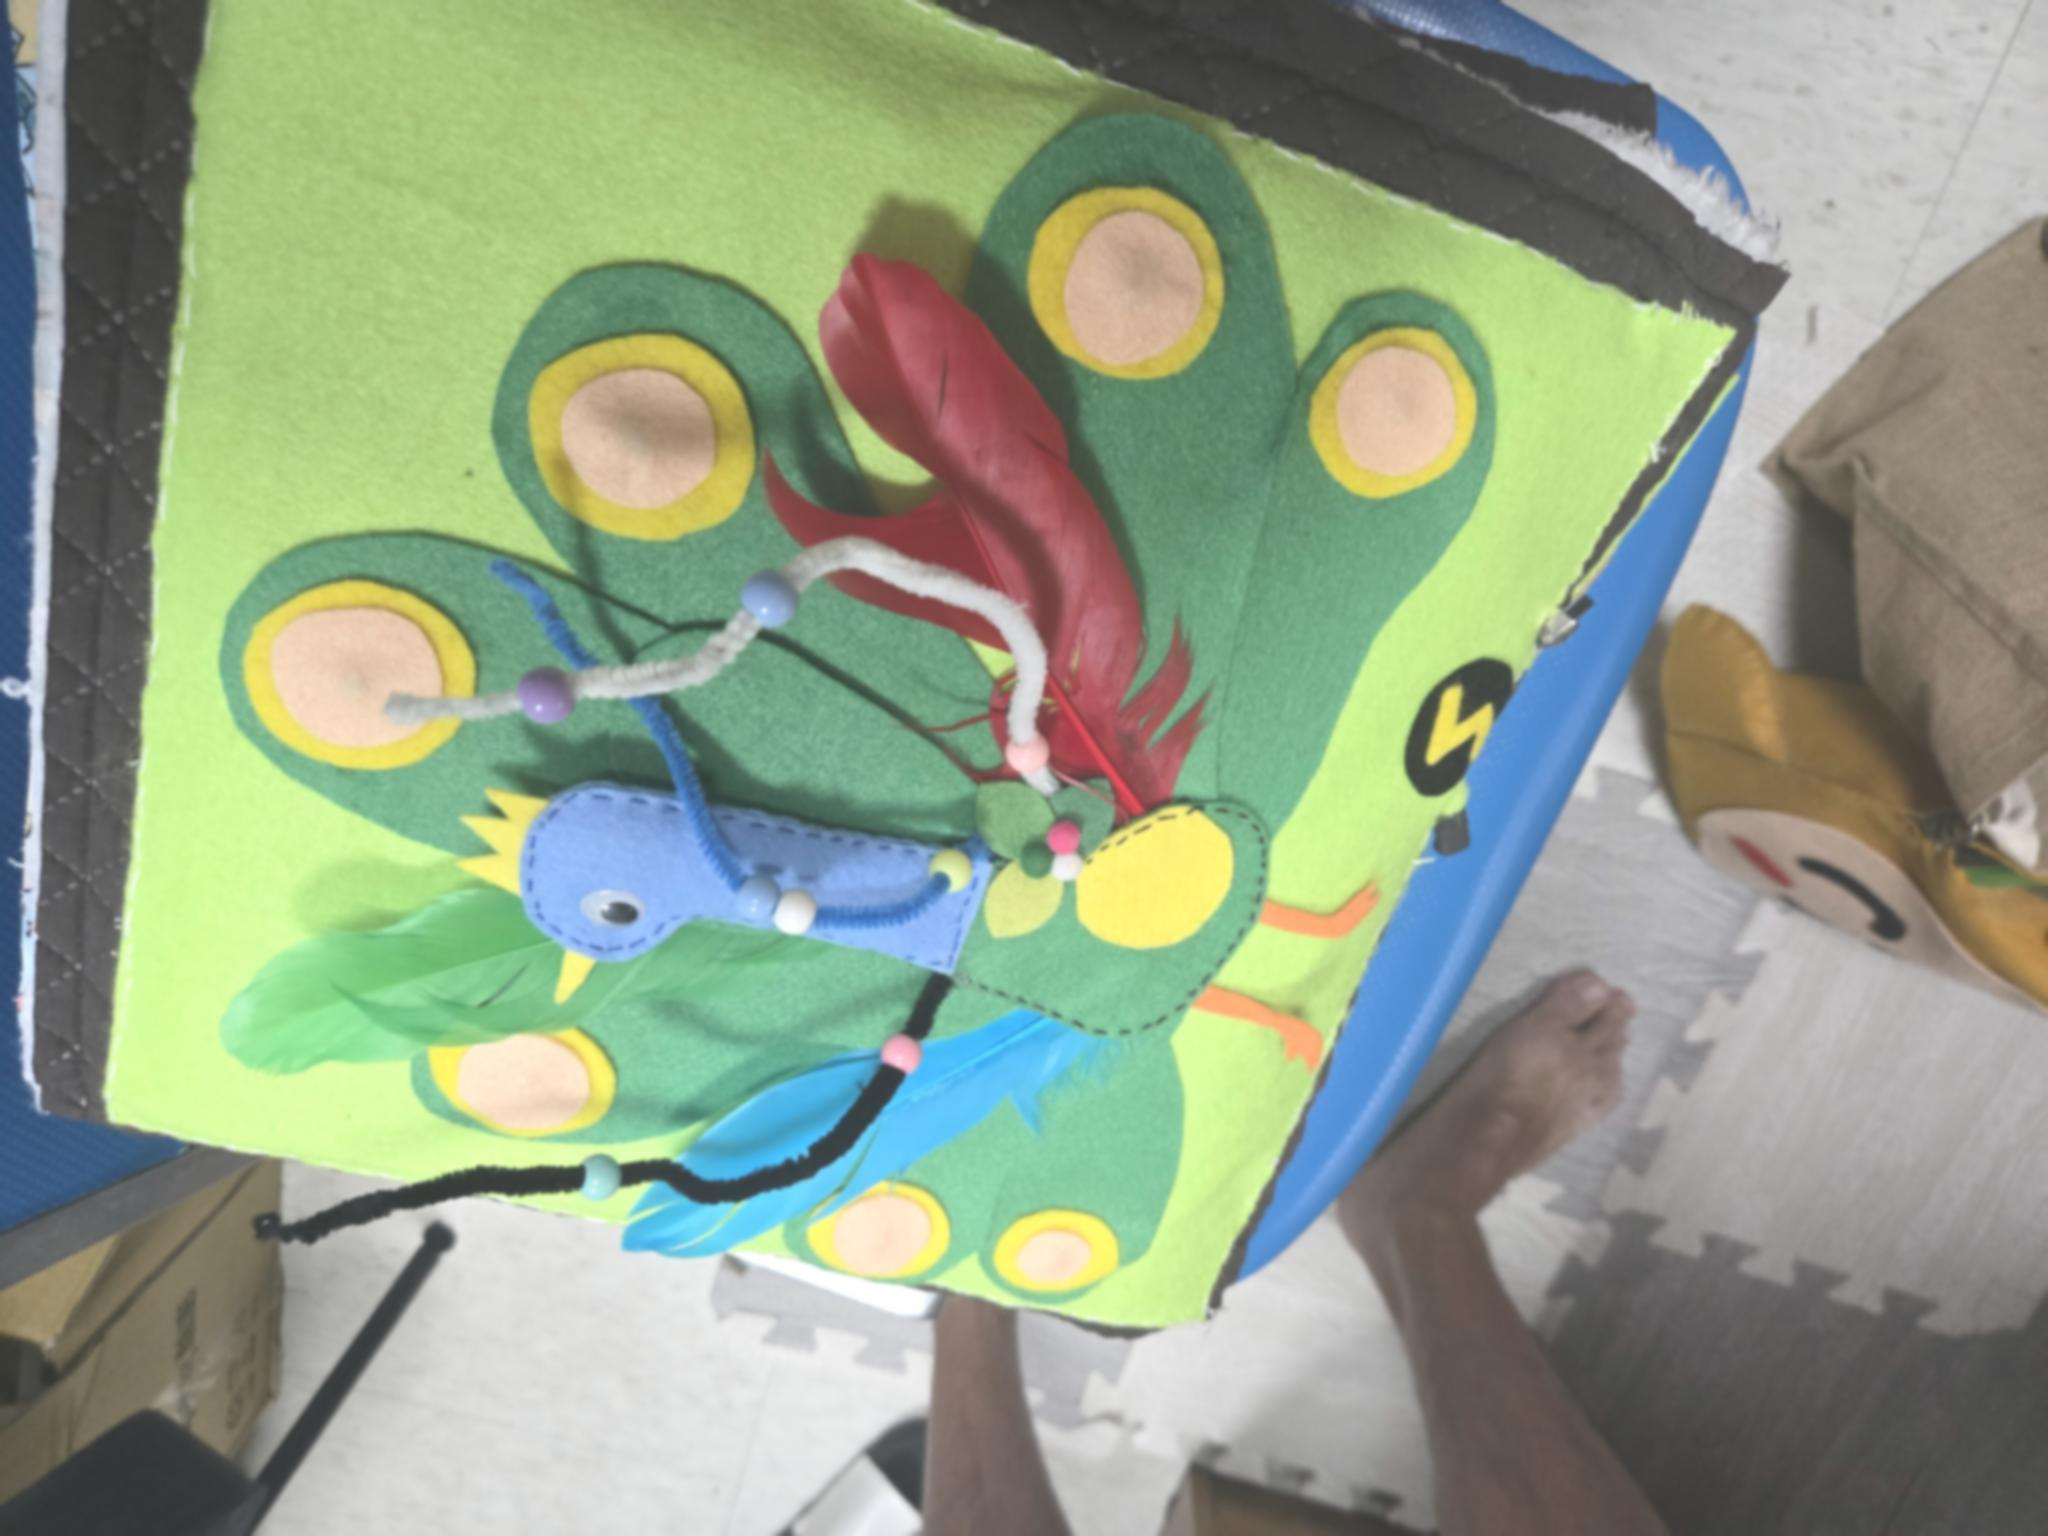bead: (510, 663, 568, 734), (740, 563, 790, 642), (993, 736, 1068, 779), (574, 1150, 632, 1200), (930, 841, 976, 904), (872, 1033, 924, 1079), (779, 892, 819, 945), (737, 874, 776, 926)
